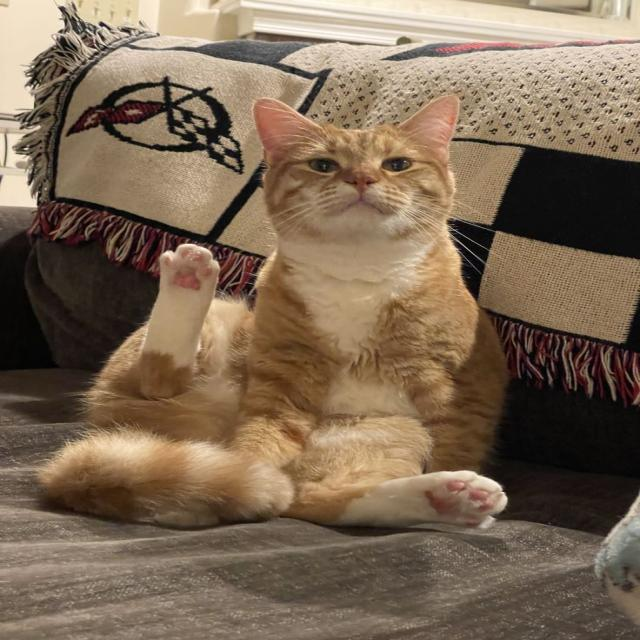sarman: (101, 58, 551, 634)
